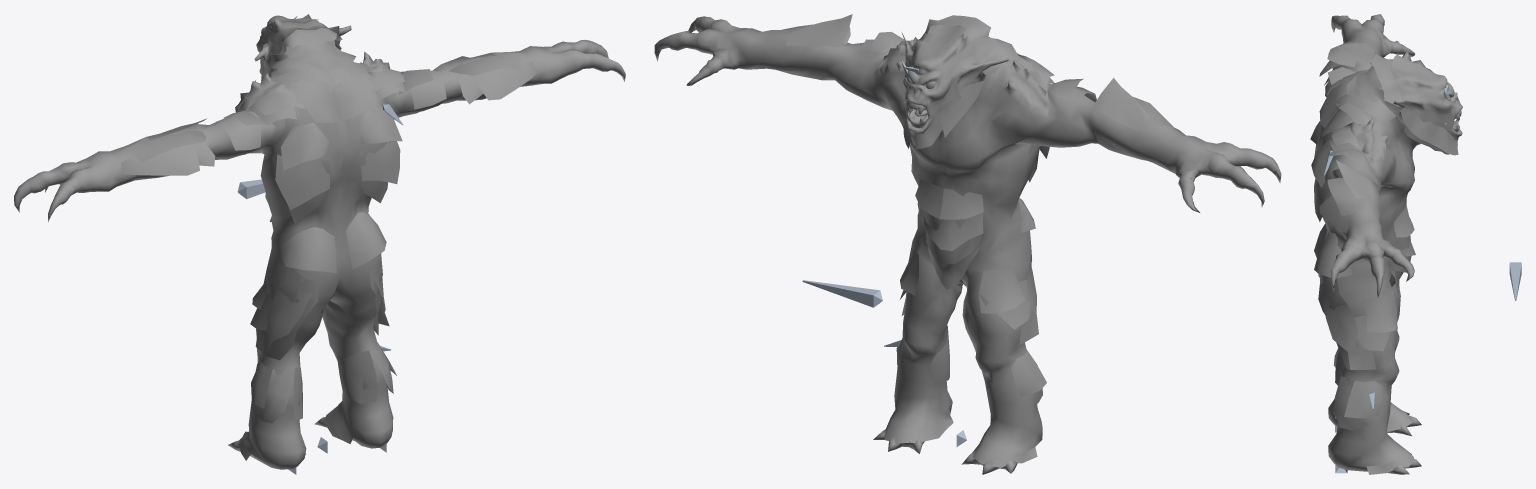
The model's file is trool.obj.
3 renders of one model, left to right at view 1: azimuth 30°, elevation 25°; view 2: azimuth 150°, elevation 25°; view 3: azimuth 270°, elevation 25°, orthographic. The views are drawn at different scales.
Visible parts, largest first — view 1: Uderfrykte_0; view 2: Uderfrykte_0, Uderfrykte_1, Capsule02; view 3: Uderfrykte_0, Uderfrykte_1, Capsule02.
Boxes of the visible parts, <box> form: Uderfrykte_0: <box>14,14,625,469</box>; Uderfrykte_0: <box>654,14,1281,474</box>; Uderfrykte_1: <box>903,59,1005,148</box>; Capsule02: <box>802,280,882,307</box>; Uderfrykte_0: <box>1310,14,1458,474</box>; Uderfrykte_1: <box>1332,78,1462,155</box>; Capsule02: <box>1509,262,1521,300</box>.
Size of the model in its own units: 257 by 175 by 86.12.
